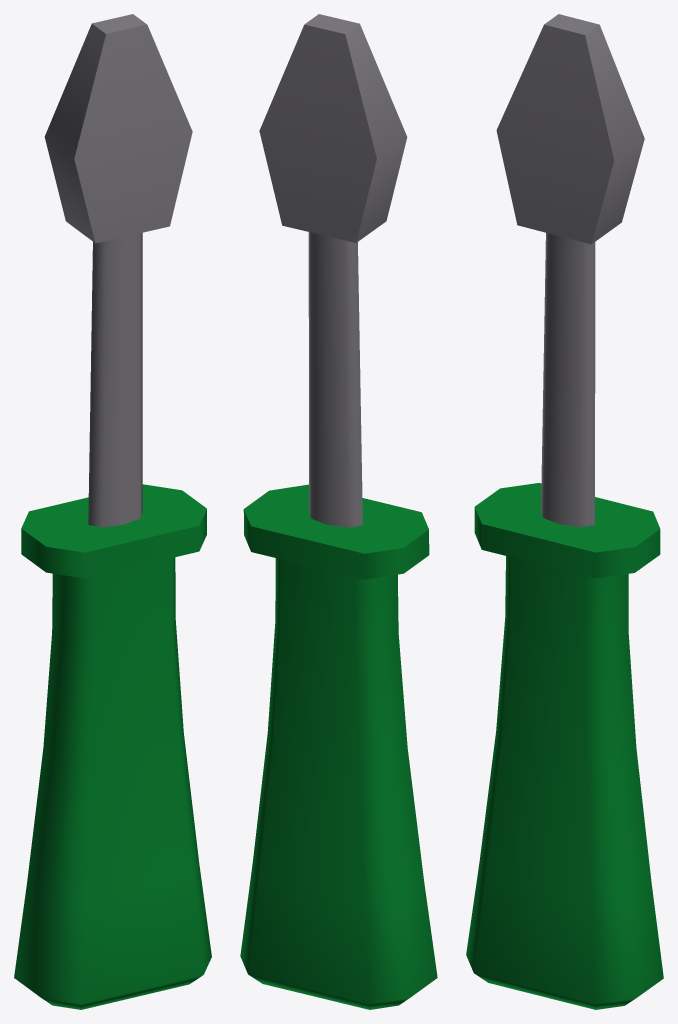
The model's file is Screwdriver_01.fbx.
3 renders of one model, left to right at view 1: azimuth 30°, elevation 25°; view 2: azimuth 150°, elevation 25°; view 3: azimuth 330°, elevation 25°, orthographic.
Parts seen in each view (by area): view 1: Screwdriver_01; view 2: Screwdriver_01; view 3: Screwdriver_01.
Boxes of the visible parts, box(x1,y1,x2,y2) form: Screwdriver_01: box(14, 14, 211, 1009); Screwdriver_01: box(240, 14, 437, 1009); Screwdriver_01: box(466, 14, 663, 1009).
Bounding box in the file's own units: 6.98 × 4.28 × 37.23.
